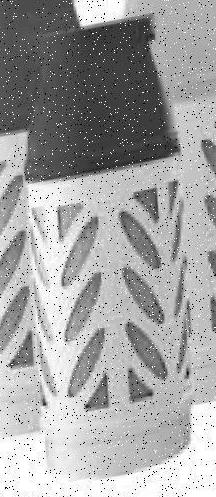cylinder: (1, 1, 216, 497)
